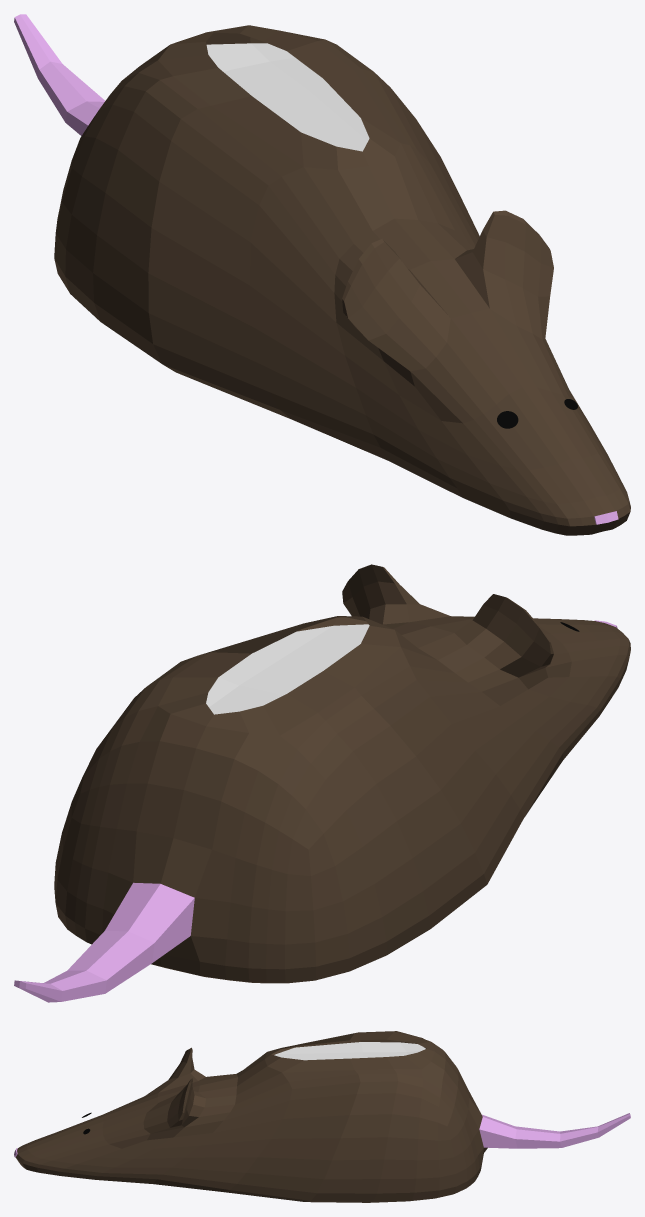
Rendered from Rat.fbx.
3 renders of one model, top to bottom at view 1: azimuth 30°, elevation 25°; view 2: azimuth 150°, elevation 25°; view 3: azimuth 270°, elevation 25°, orthographic. The views are drawn at different scales.
Parts seen in each view (by area): view 1: body; view 2: body; view 3: body.
Part boxes in pixels (x1=…): body: x1=14, y1=14, x2=630, y2=535; body: x1=14, y1=564, x2=630, y2=1002; body: x1=14, y1=1031, x2=630, y2=1202.
Size of the model in its own units: 176 by 110 by 535.
